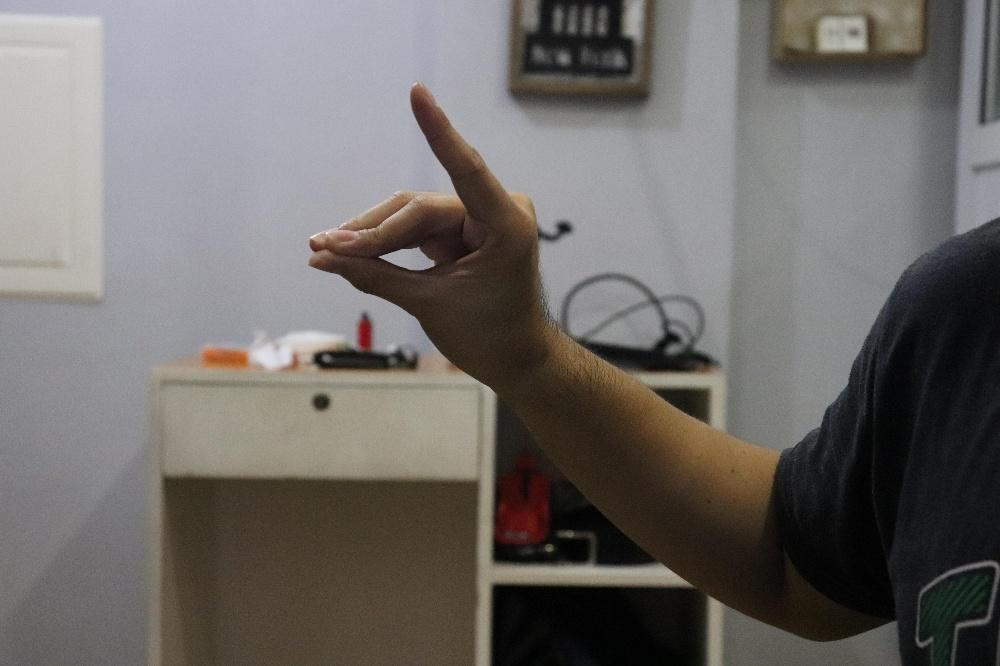d: (307, 78, 540, 383)
